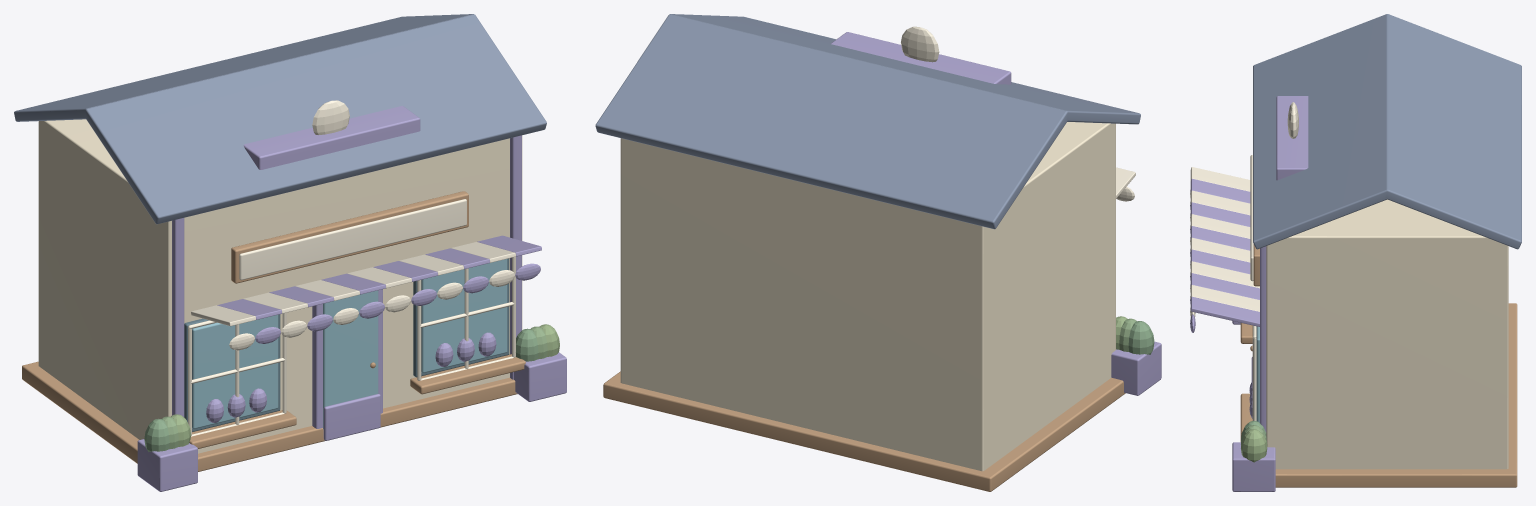
Rendered from shop-moonbeam.glb.
3 renders of one model, left to right at view 1: azimuth 30°, elevation 25°; view 2: azimuth 150°, elevation 25°; view 3: azimuth 270°, elevation 25°, orthographic. The views are drawn at different scales.
Parts seen in each view (by area): view 1: Shop plaster, Pitched tiled roof.001, Shop foundation, Pitched tiled roof, Window pane, Shop sign face, Window pane.001, Glass door, Moonbeam stepped parapet, Shop sign frame, Painted corner board, Window planter (+23 smaller); view 2: Shop plaster, Pitched tiled roof, Shop foundation, Pitched tiled roof.001, Moonbeam stepped parapet, Window planter, Moon shop medallion, Planter leaf; view 3: Shop plaster, Pitched tiled roof, Pitched tiled roof.001, Shop foundation, Moonbeam stepped parapet, Window planter.001, Painted corner board.001, Striped fabric awning.011, Striped fabric awning.009, Striped fabric awning.010, Striped fabric awning.008, Striped fabric awning.006 (+12 smaller).
Boxes of the visible parts, bbox=[...] form: Shop plaster: bbox=[38, 119, 522, 453]; Pitched tiled roof.001: bbox=[85, 14, 546, 224]; Shop foundation: bbox=[22, 361, 517, 471]; Pitched tiled roof: bbox=[14, 14, 474, 121]; Window pane: bbox=[192, 315, 278, 428]; Shop sign face: bbox=[239, 199, 466, 280]; Window pane.001: bbox=[421, 259, 507, 372]; Glass door: bbox=[323, 290, 378, 429]; Moonbeam stepped parapet: bbox=[243, 106, 420, 169]; Shop sign frame: bbox=[231, 191, 468, 283]; Painted corner board: bbox=[172, 218, 184, 417]; Window planter: bbox=[137, 439, 197, 491]; Shop plaster: bbox=[620, 122, 1115, 471]; Pitched tiled roof: bbox=[595, 14, 1067, 229]; Shop foundation: bbox=[603, 371, 1125, 491]; Pitched tiled roof.001: bbox=[669, 14, 1140, 124]; Moonbeam stepped parapet: bbox=[831, 32, 1011, 84]; Window planter: bbox=[1111, 341, 1161, 395]; Moon shop medallion: bbox=[901, 26, 939, 62]; Planter leaf: bbox=[1128, 321, 1154, 354]; Shop plaster: bbox=[1266, 199, 1508, 469]; Pitched tiled roof: bbox=[1385, 14, 1521, 249]; Pitched tiled roof.001: bbox=[1253, 14, 1388, 249]; Shop foundation: bbox=[1275, 303, 1517, 487]; Moonbeam stepped parapet: bbox=[1276, 96, 1308, 180]; Window planter.001: bbox=[1232, 442, 1275, 491]; Painted corner board.001: bbox=[1260, 246, 1266, 432]; Striped fabric awning.011: bbox=[1190, 296, 1259, 326]; Striped fabric awning.009: bbox=[1190, 273, 1259, 299]; Striped fabric awning.010: bbox=[1190, 285, 1259, 311]; Striped fabric awning.008: bbox=[1190, 261, 1259, 288]; Striped fabric awning.006: bbox=[1190, 237, 1250, 262].
Bounding box in the file's own units: 7.66 × 5.74 × 5.75.
